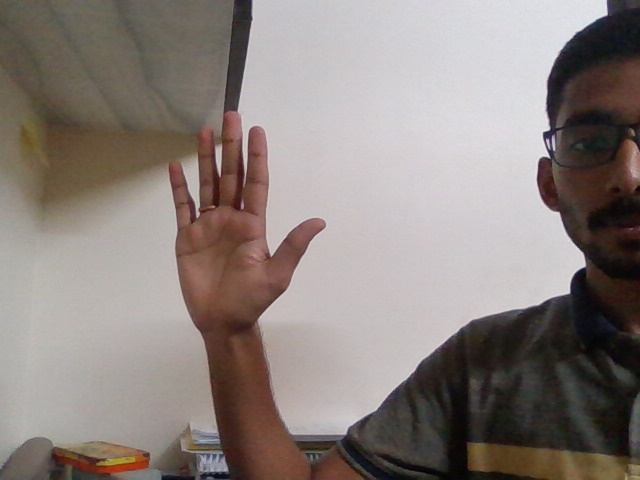Hello: (143, 98, 350, 355)
